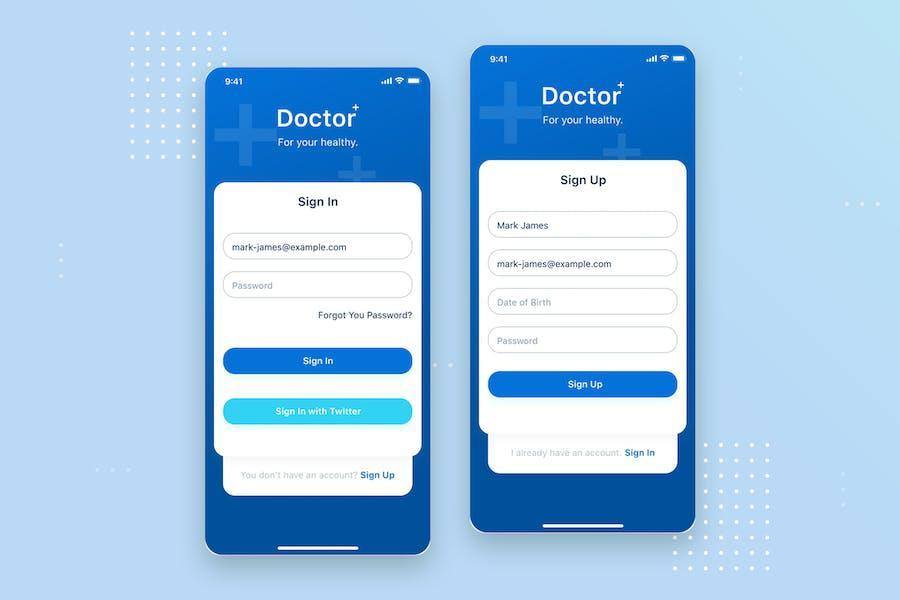button: (223, 347, 414, 377), (488, 371, 679, 400), (225, 399, 413, 425)
input: (223, 233, 415, 262), (489, 211, 679, 240), (490, 288, 679, 316), (488, 327, 680, 354), (224, 271, 415, 298), (489, 250, 680, 277)
label: (559, 174, 610, 189), (299, 194, 344, 211)
